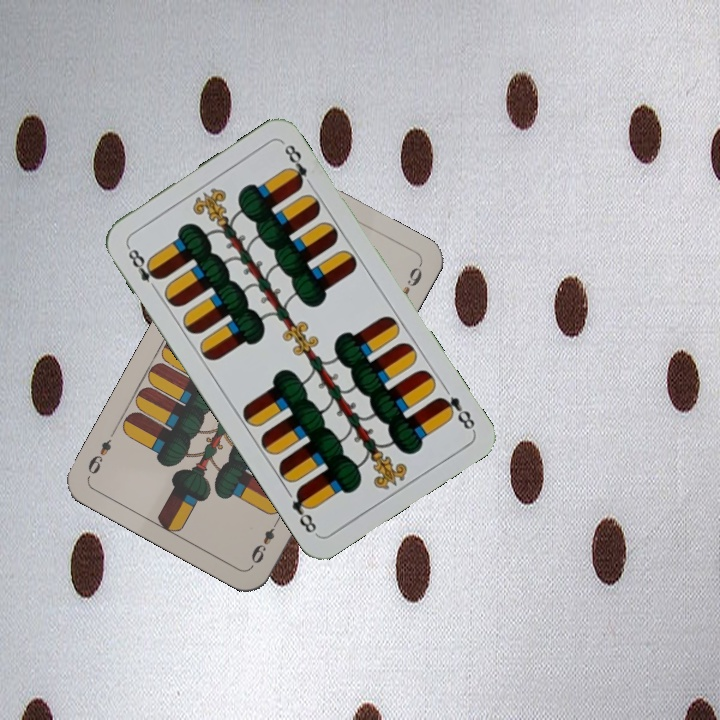E8: (123, 242, 164, 295), (433, 392, 478, 433)
E9: (246, 515, 282, 569)
